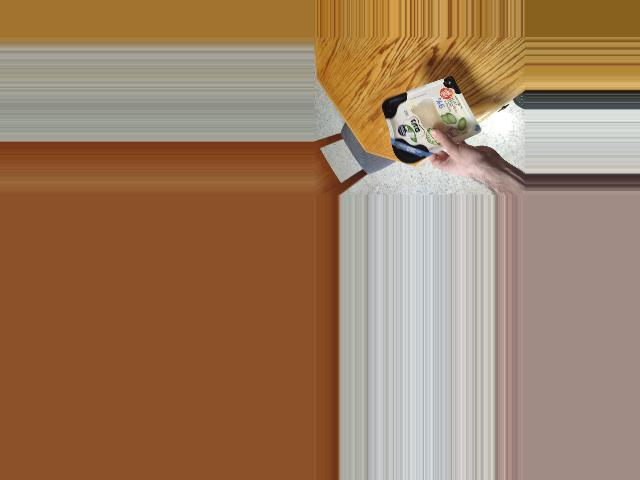cheese: (377, 80, 464, 160)
